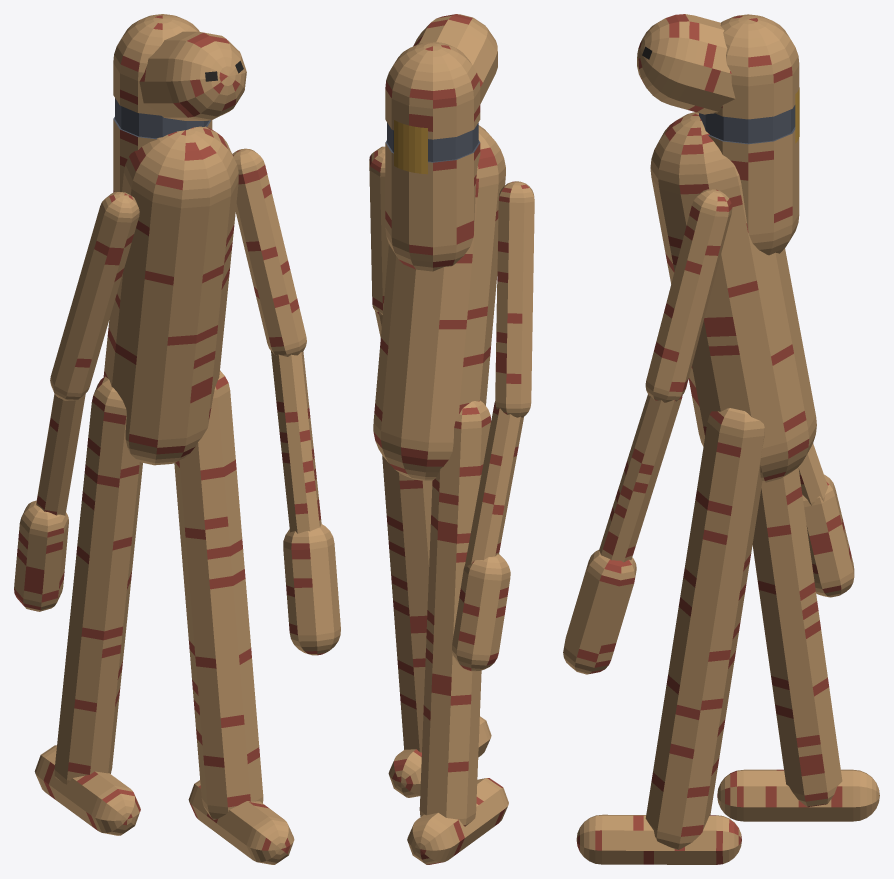
Rendered from titan-husk.glb.
3 views of the same model, side by side, from view 1: azimuth 30°, elevation 25°; view 2: azimuth 150°, elevation 25°; view 3: azimuth 270°, elevation 25° (orthographic). The views are drawn at different scales.
Parts seen in each view (by area): view 1: titan-husk; view 2: titan-husk; view 3: titan-husk.
Boxes of the visible parts, x1,y1,x2,y2 form: titan-husk: (14, 14, 340, 864); titan-husk: (369, 14, 534, 864); titan-husk: (563, 14, 879, 864).
Size of the model in its own units: 2.72 by 10.04 by 3.47.
Materials: 1 (1 with a texture image).
